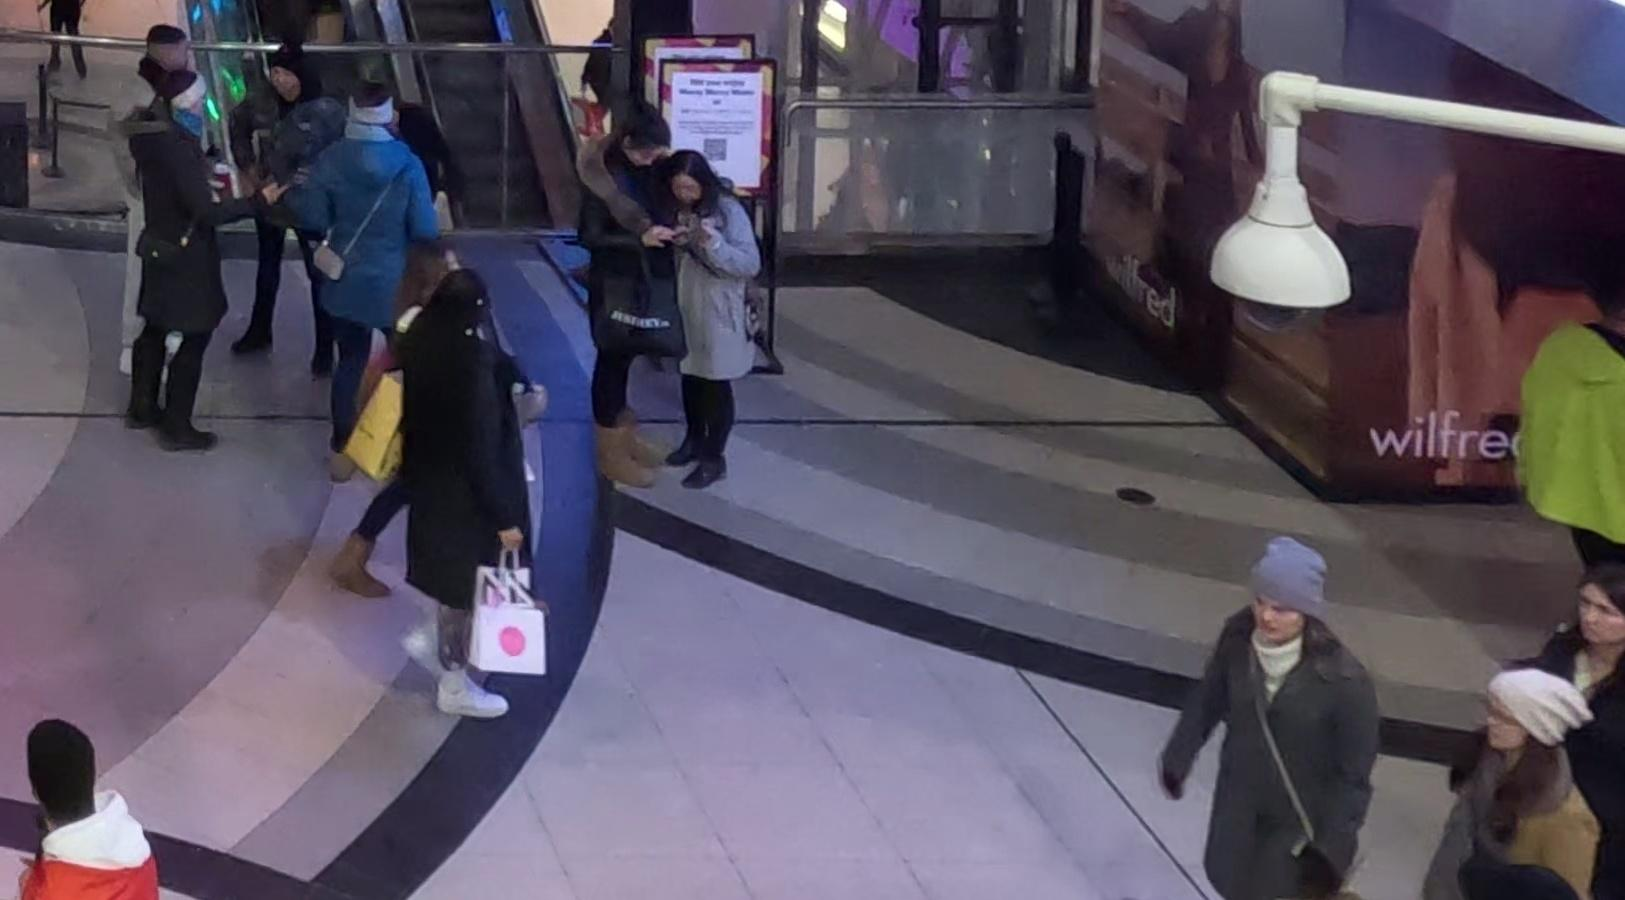person: (1182, 534, 1398, 900), (397, 270, 546, 721), (112, 52, 246, 468), (300, 88, 438, 469), (1419, 665, 1613, 900), (658, 147, 775, 491)
